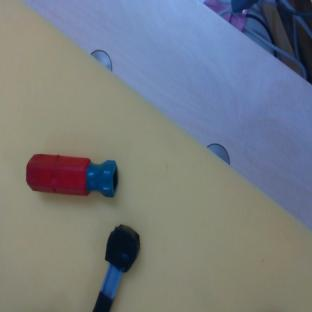part_2_good: (25, 154, 120, 198)
part_3_bad: (93, 222, 144, 312)
